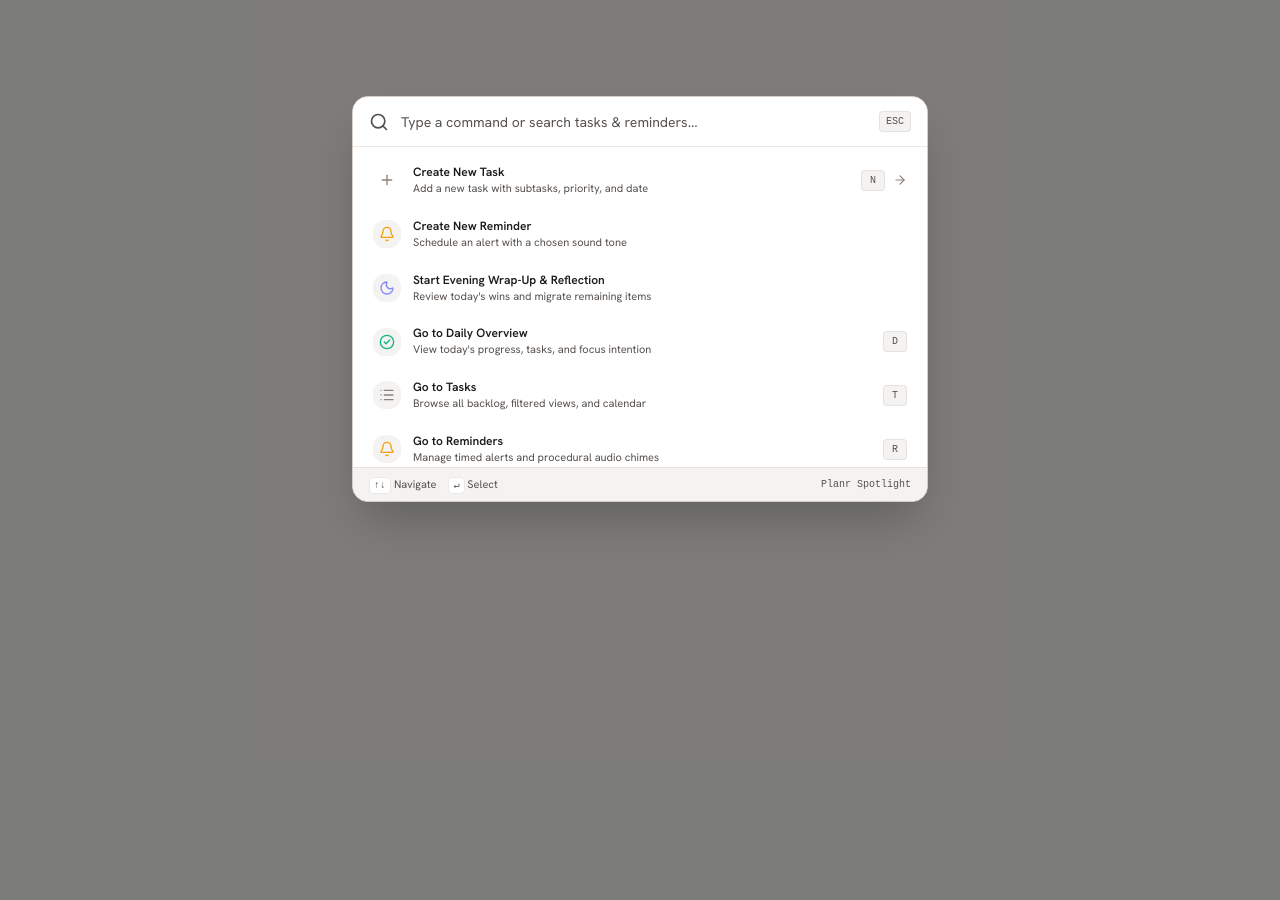
Test: CommandPaletteModal Component › filters tasks and reminders dynamically as user types
Step 1. Type "wireframe" into the field with placeholder "Type a command or search tasks & reminders..." → (634, 122), box [401,112,867,132]
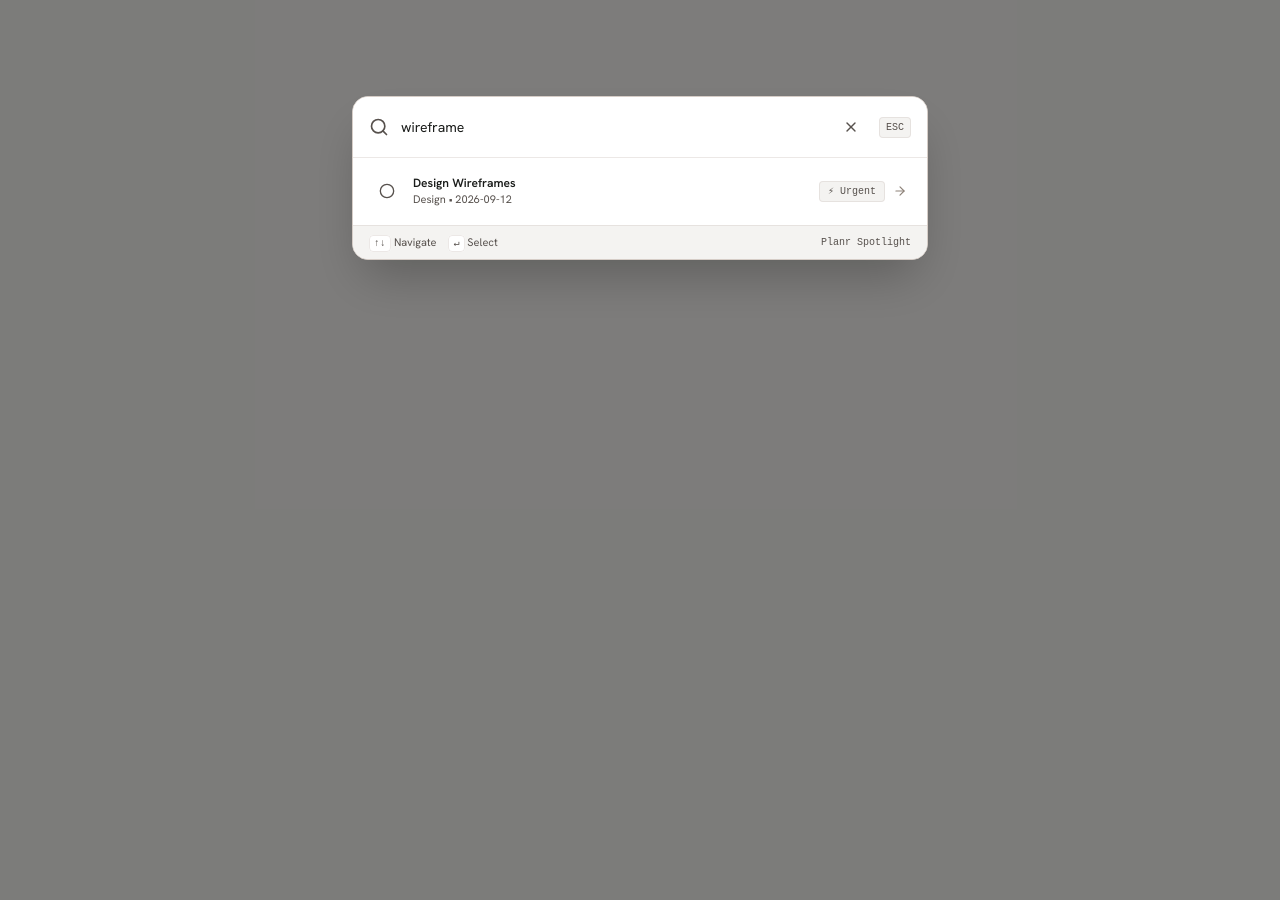
Expected: the text "Design Wireframes" is shown, [413,176,516,191]
